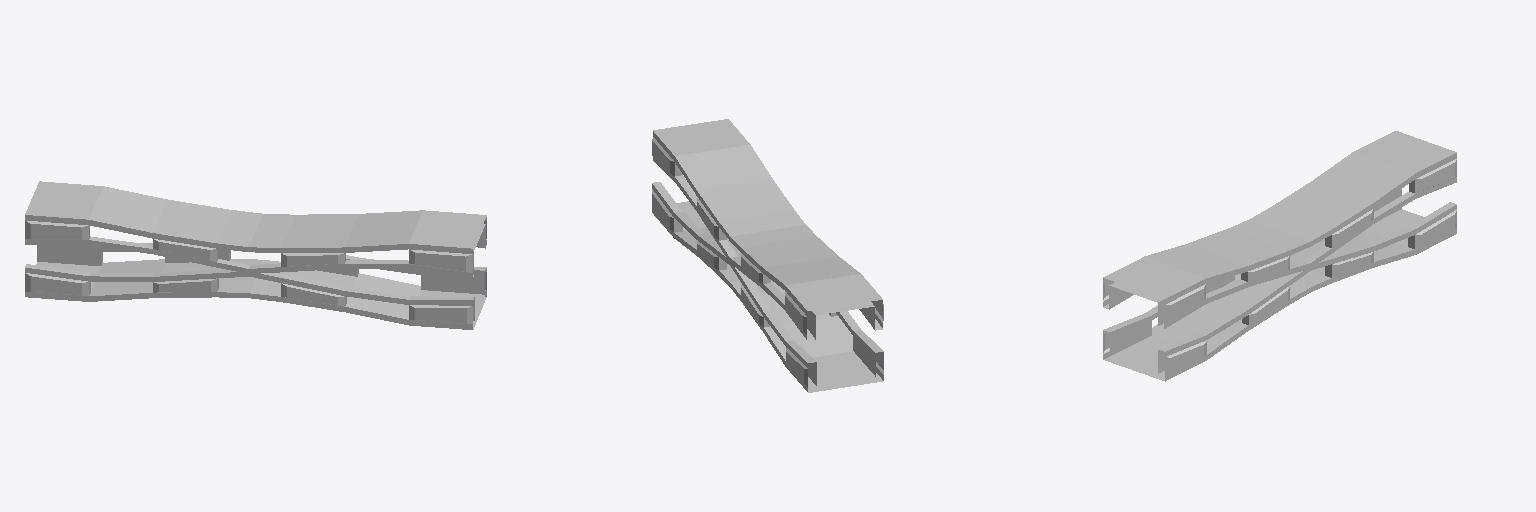
File: prop_bridge.obj
3 renders of one model, left to right at view 1: azimuth 30°, elevation 25°; view 2: azimuth 150°, elevation 25°; view 3: azimuth 270°, elevation 25°, orthographic.
Visible parts, largest first — view 1: space_bridge; view 2: space_bridge; view 3: space_bridge.
Boxes of the visible parts, x1=… form: space_bridge: x1=25, y1=181, x2=486, y2=329; space_bridge: x1=652, y1=119, x2=883, y2=392; space_bridge: x1=1103, y1=131, x2=1456, y2=381.
Bounding box in the file's own units: 130 × 29.35 × 115.